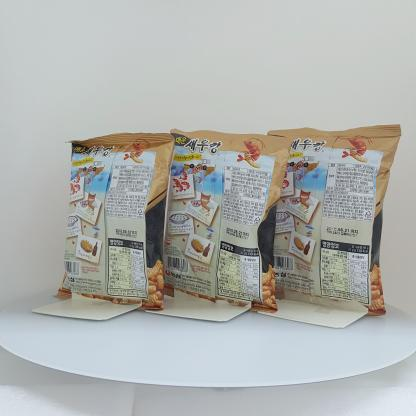Plastic Packaging: (280, 117, 402, 315), (58, 129, 172, 313), (176, 132, 286, 306)
